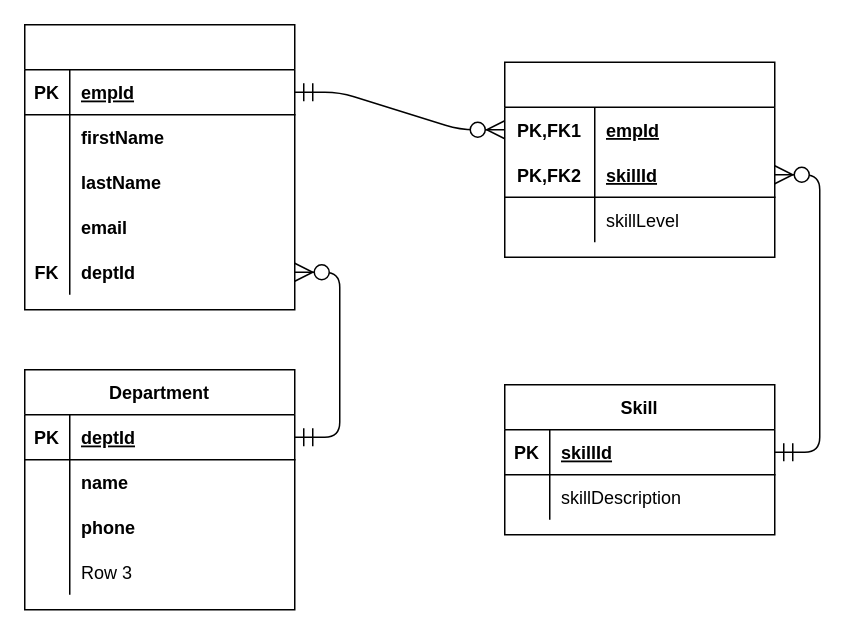
Image size: 845x635. Some labels were removed from this diagram. Each missing label, with the box of its shape:
Employee: (23, 23, 295, 310)
EmployeeSkill: (503, 61, 775, 257)
